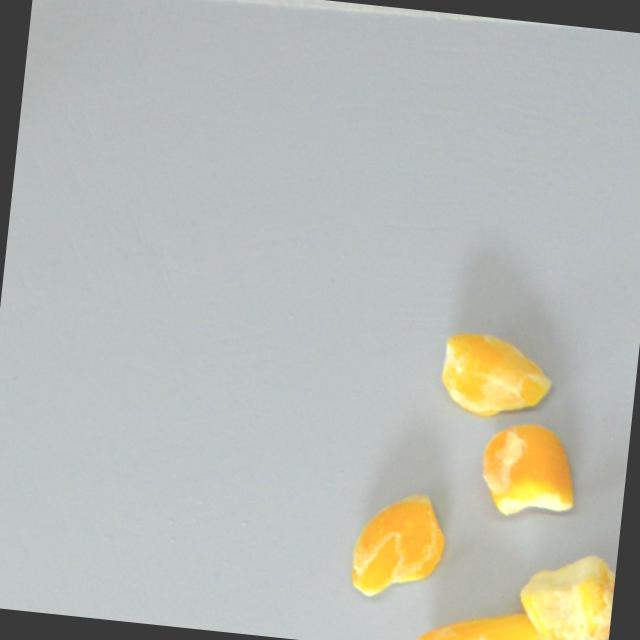dañado: (339, 480, 455, 606), (428, 322, 560, 426), (470, 413, 586, 525), (509, 540, 618, 640), (410, 598, 548, 640)
